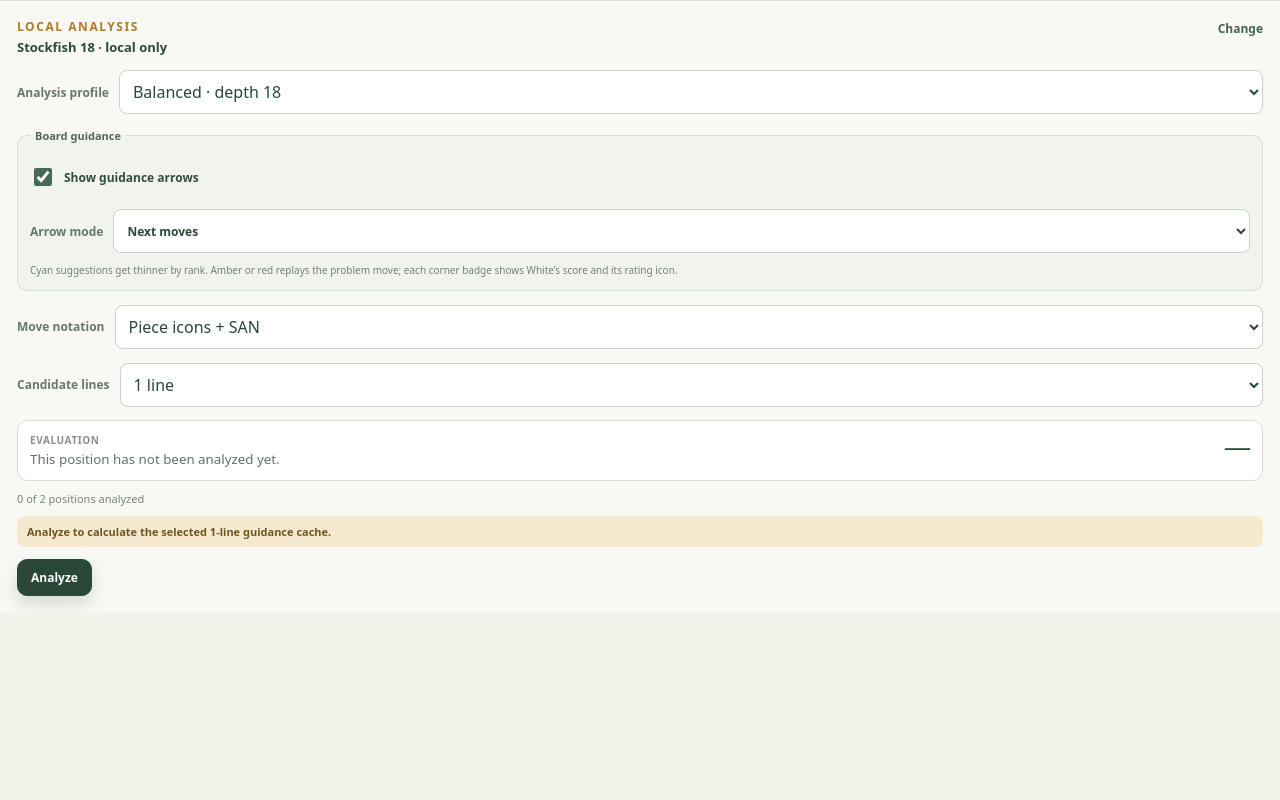
Scenario: EnginePanel › reports progress, requests cancellation, and keeps partial results
Check: the text "Stockfish 18 · local only" is shown, box [17,38,167,56]
Click the button "Analyze": click(54, 577) [17,558,92,596]
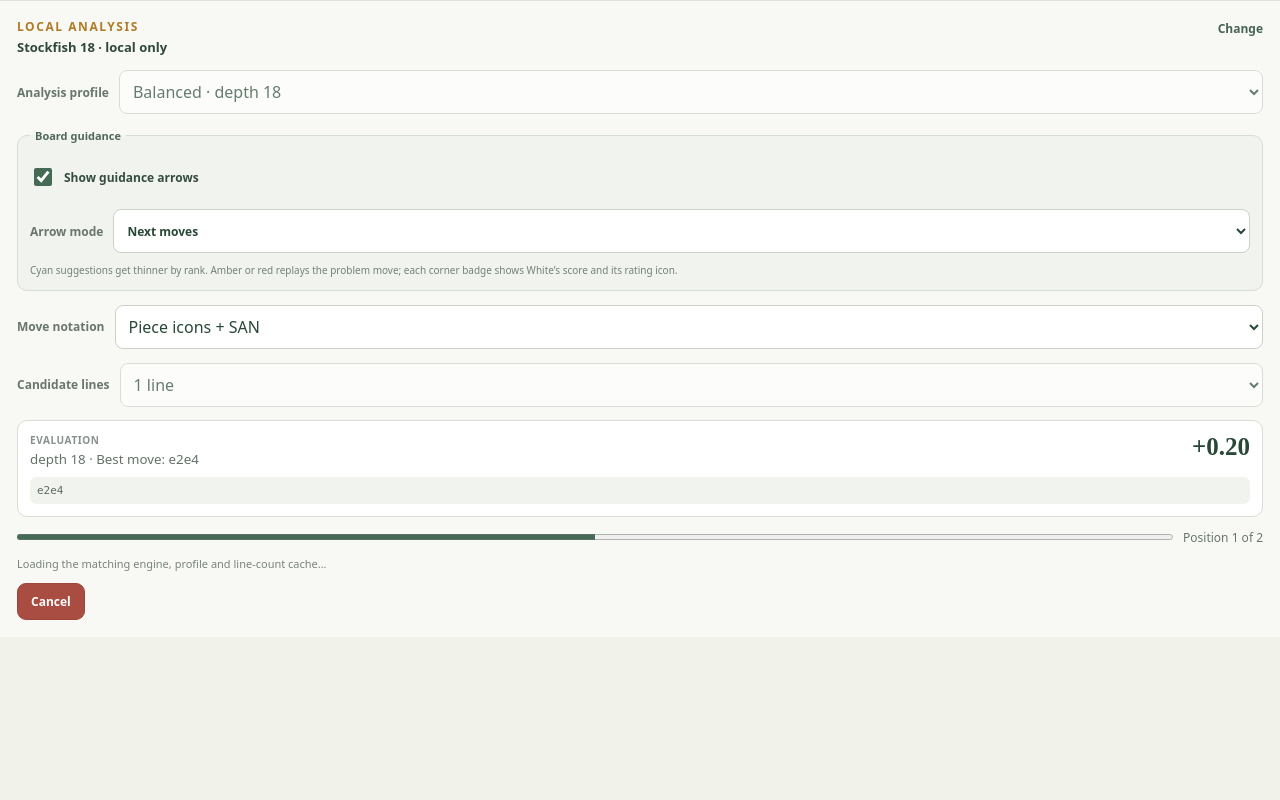
Check: the text "Position 1 of 2" is shown, box [1183,528,1263,546]
Check: the text "+0.20" is shown, box [1192,432,1250,468]
Click the button "Cancel": click(51, 601) [17,582,85,620]
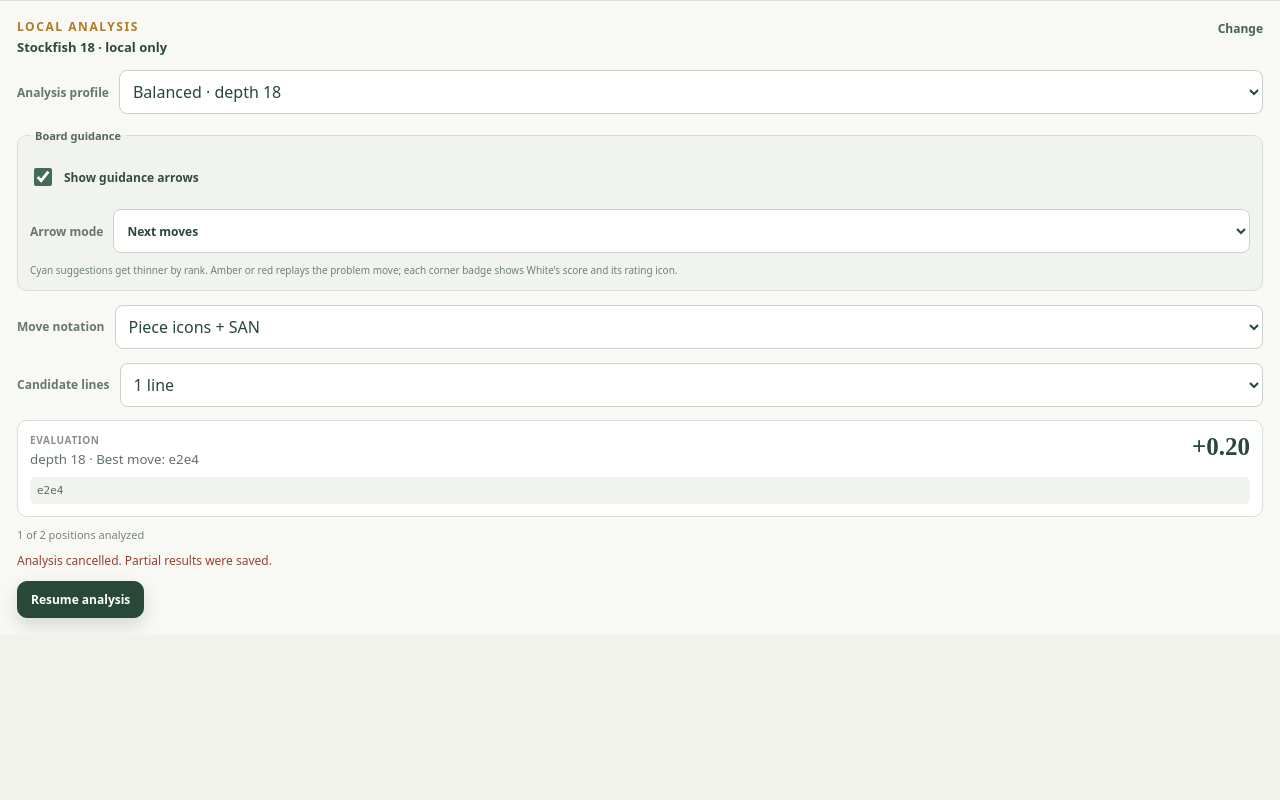
Check: the text "Analysis cancelled. Partial results were saved." is shown, box [17,552,272,568]
